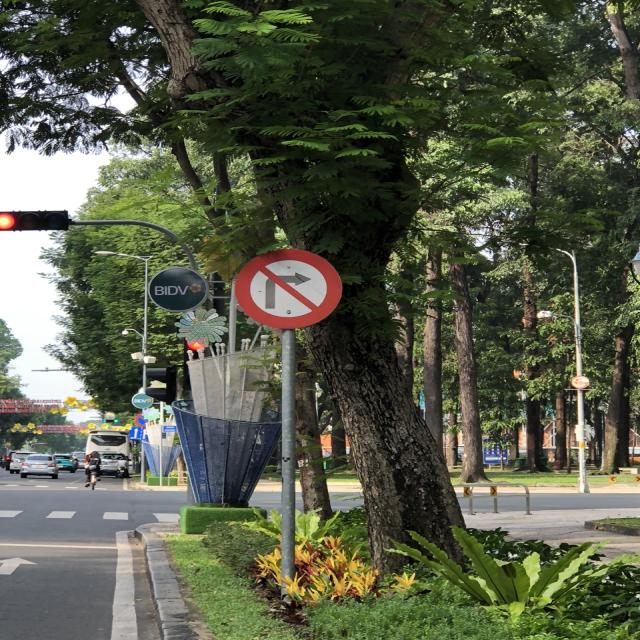Bien bao cam re phai: (221, 238, 353, 338)
